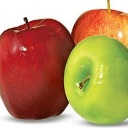apple: (71, 1, 128, 48)
